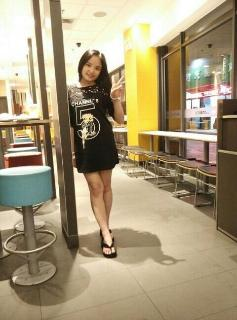short sleeve dress: (66, 82, 119, 173)
